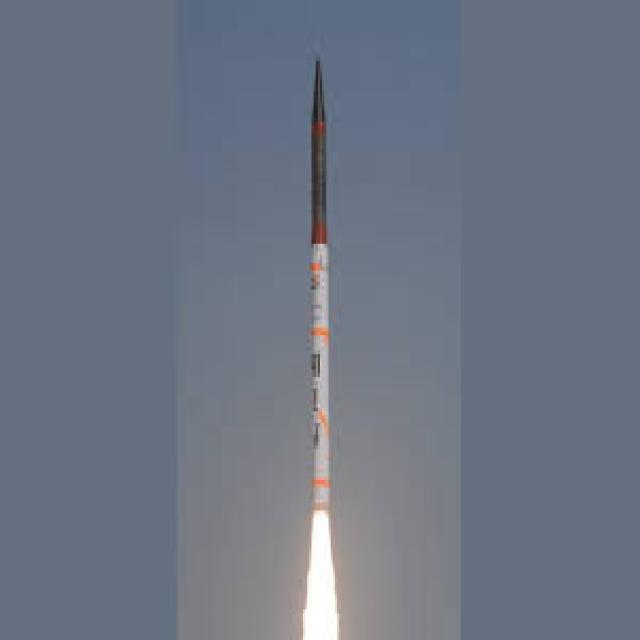missile: (302, 45, 340, 539)
